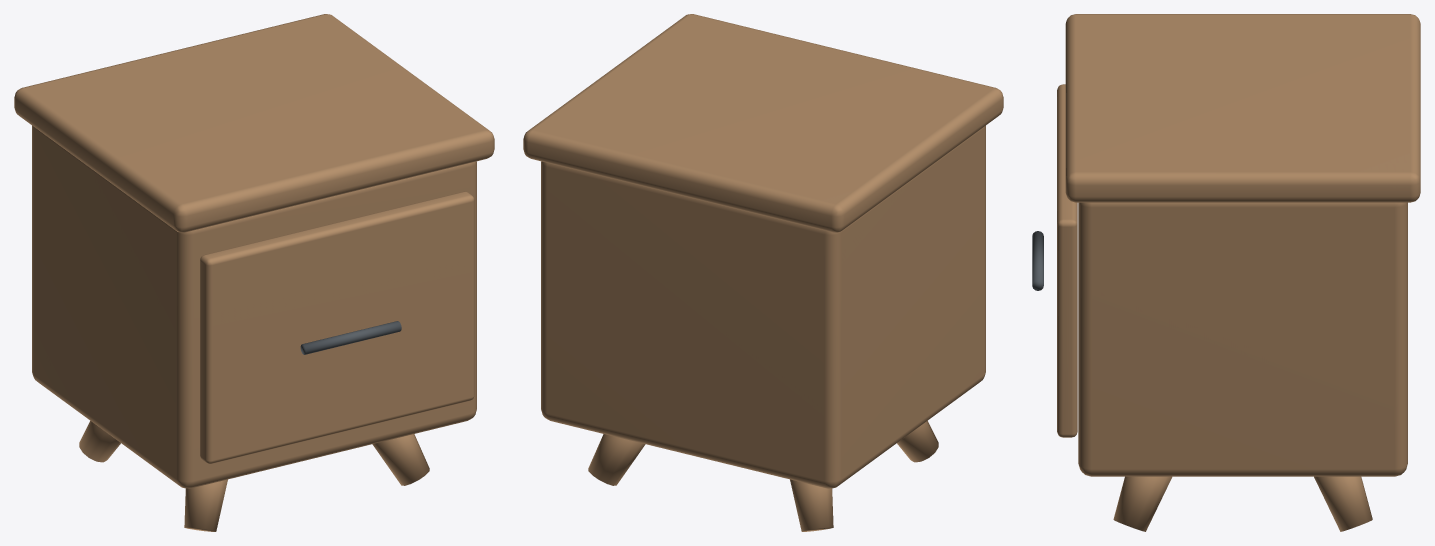
Rendered from atelier-bedside-table.glb.
3 renders of one model, left to right at view 1: azimuth 30°, elevation 25°; view 2: azimuth 150°, elevation 25°; view 3: azimuth 270°, elevation 25°, orthographic. The views are drawn at different scales.
Visible parts, largest first — view 1: legs.039, metal.007; view 2: legs.039; view 3: legs.039, metal.007.
Boxes of the visible parts, left/top/right/bottom form: legs.039: left=14, top=14, right=494, bottom=531; metal.007: left=300, top=321, right=401, bottom=354; legs.039: left=523, top=14, right=1003, bottom=531; legs.039: left=1057, top=14, right=1420, bottom=531; metal.007: left=1032, top=231, right=1043, bottom=290.
Bounding box in the file's own units: 0.535 × 0.5793 × 0.5305.
